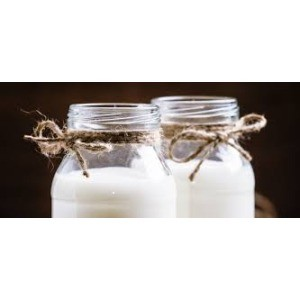milk_brain food: (48, 149, 163, 210), (182, 162, 248, 211)
